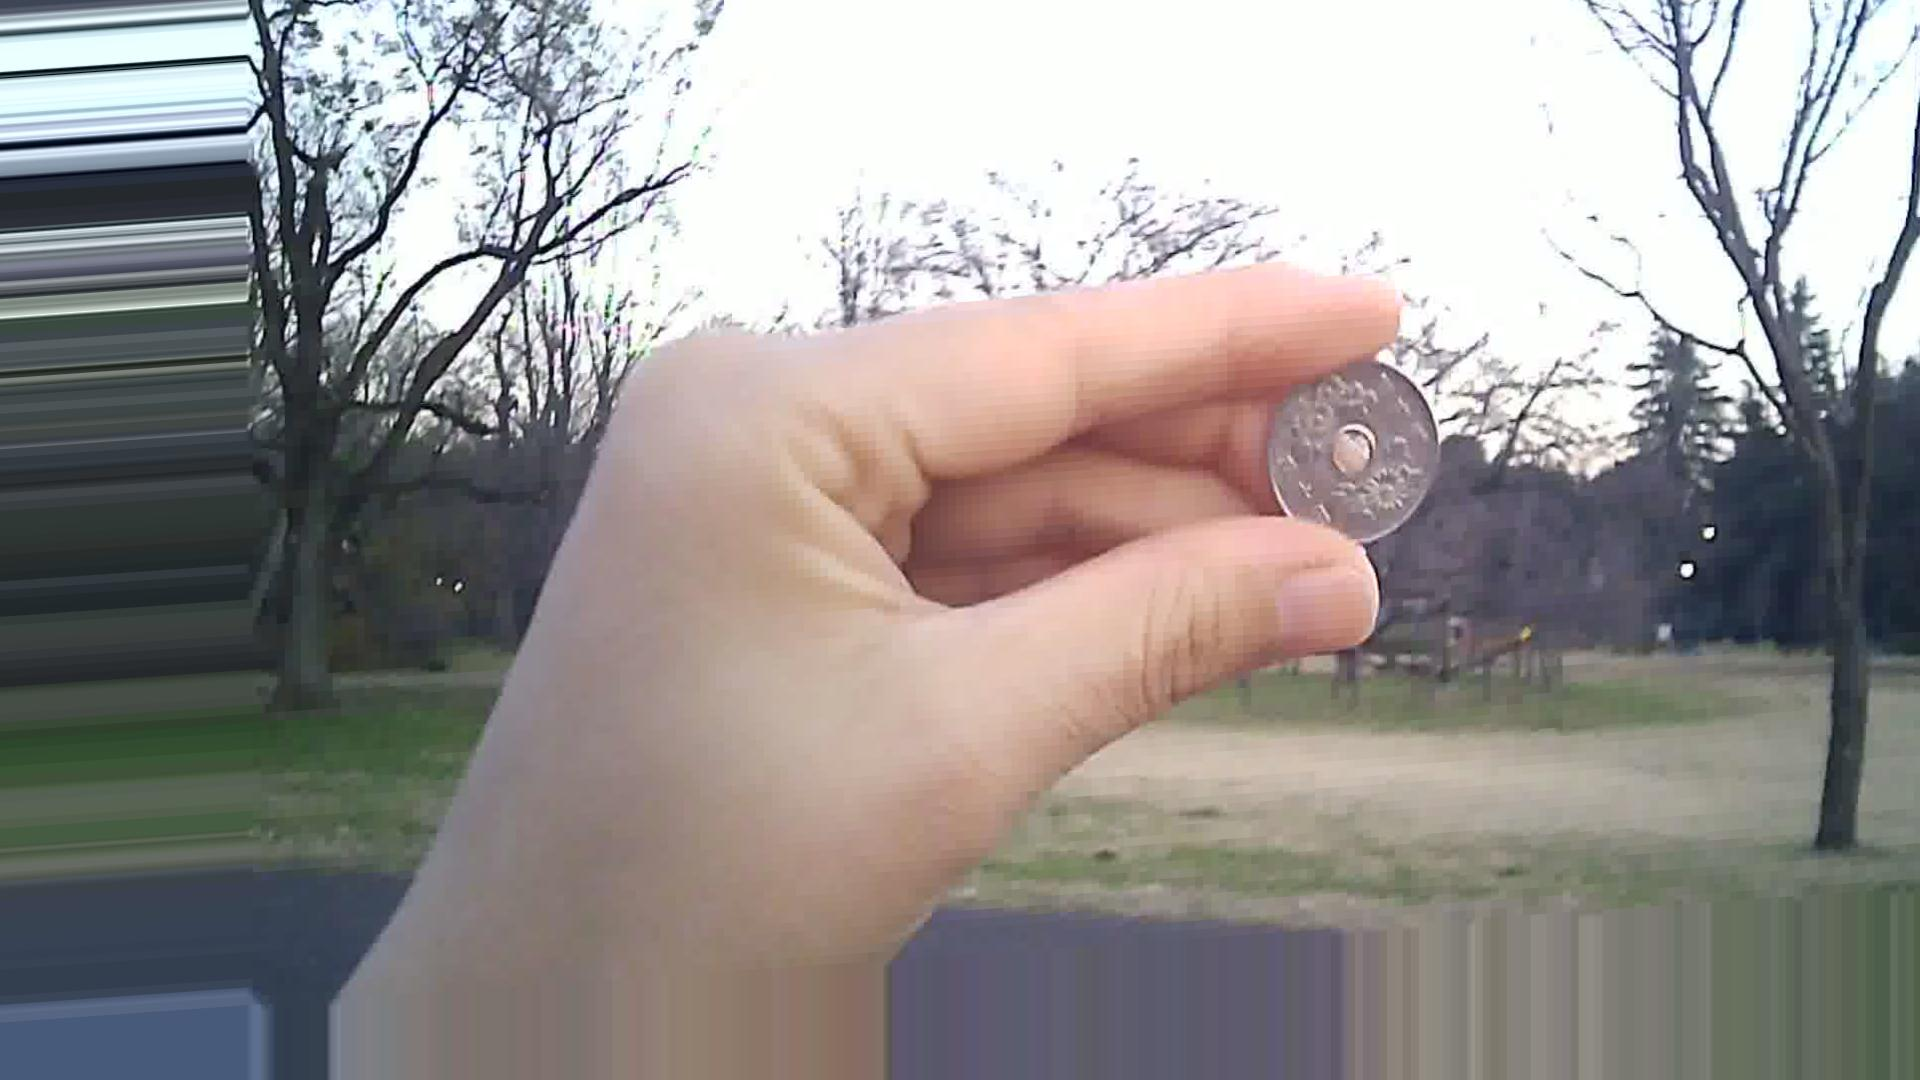50 Yen: (1267, 348, 1439, 564)
